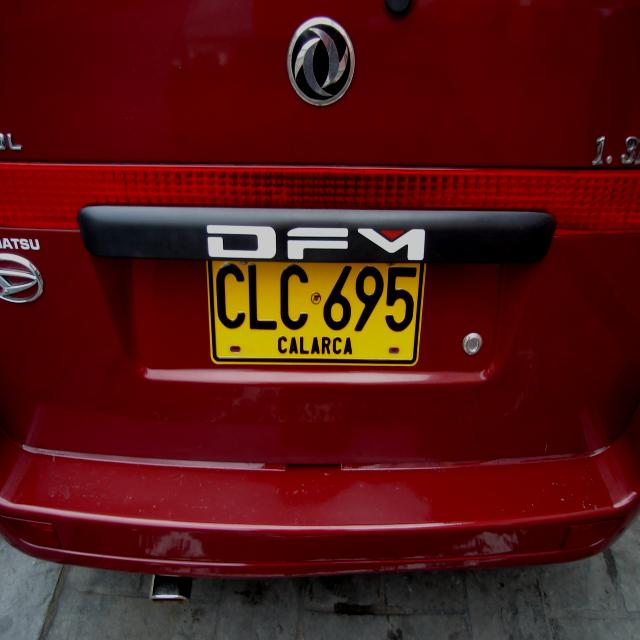placa: (201, 246, 429, 368)
